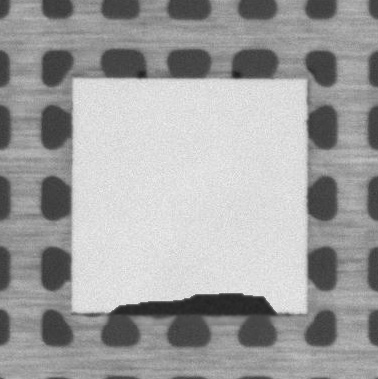DIE_BROKEN: (108, 290, 276, 316)
